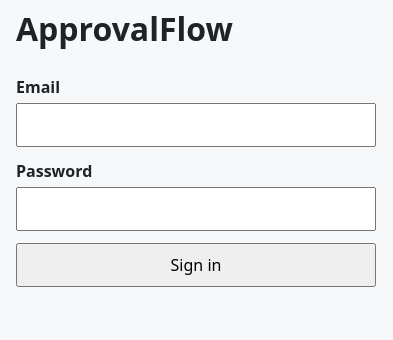
Test: App authentication (F-01) › tells the user when the server cannot be reached
Type "alice@example.com" into the field labelled "Email" at (196, 125), box [16,103,376,147]
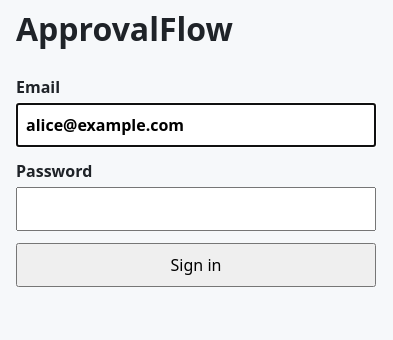
Type "whatever-123" into the password field labelled "Password" at (196, 209), box [16,187,376,231]
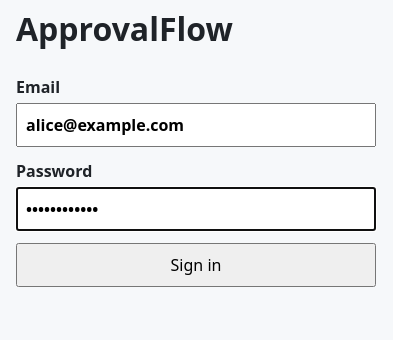
Click the button "Sign in" at (196, 265), box [16,243,376,287]
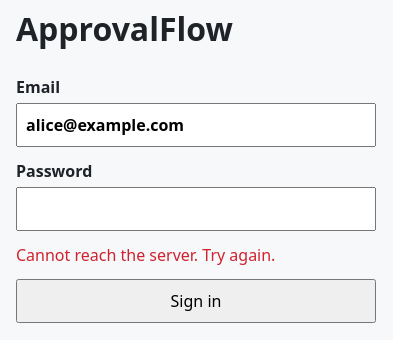
Check: the message reads "Cannot reach the server. Try again.", box [16,244,275,266]
